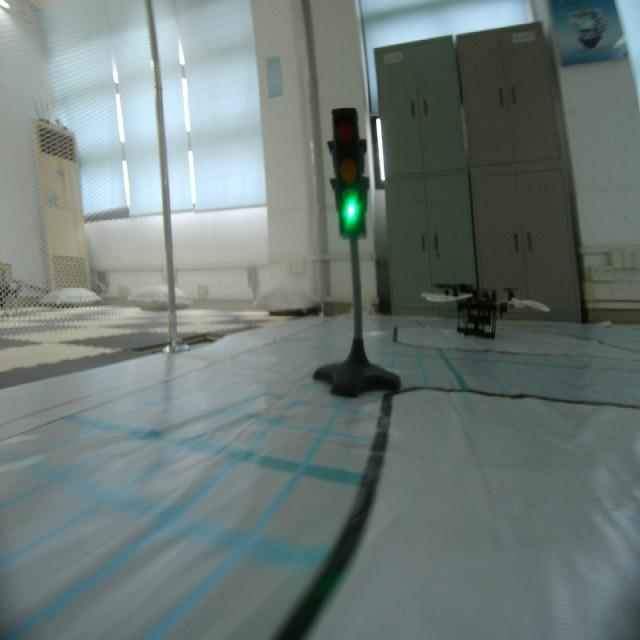green: (326, 102, 372, 248)
